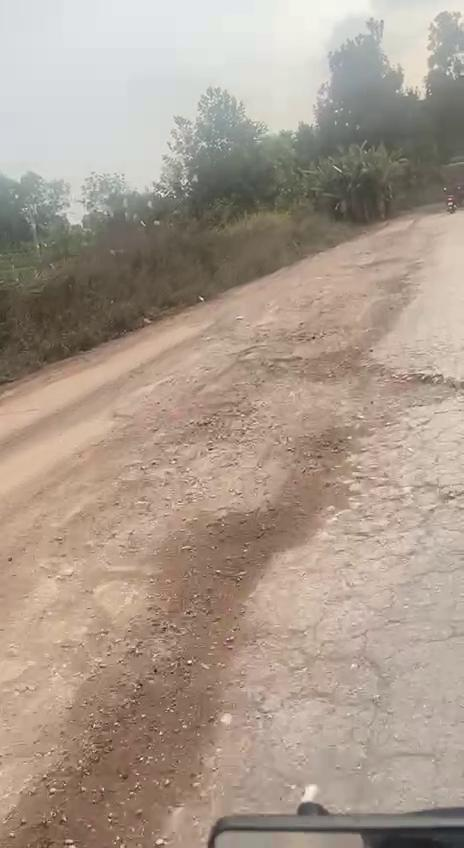pothole: (9, 667, 242, 848), (349, 365, 464, 414)
